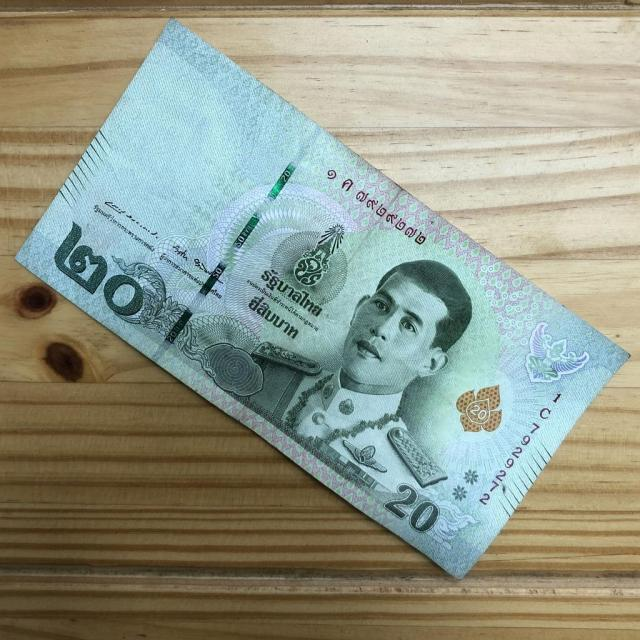THAI20: (16, 20, 628, 577)
